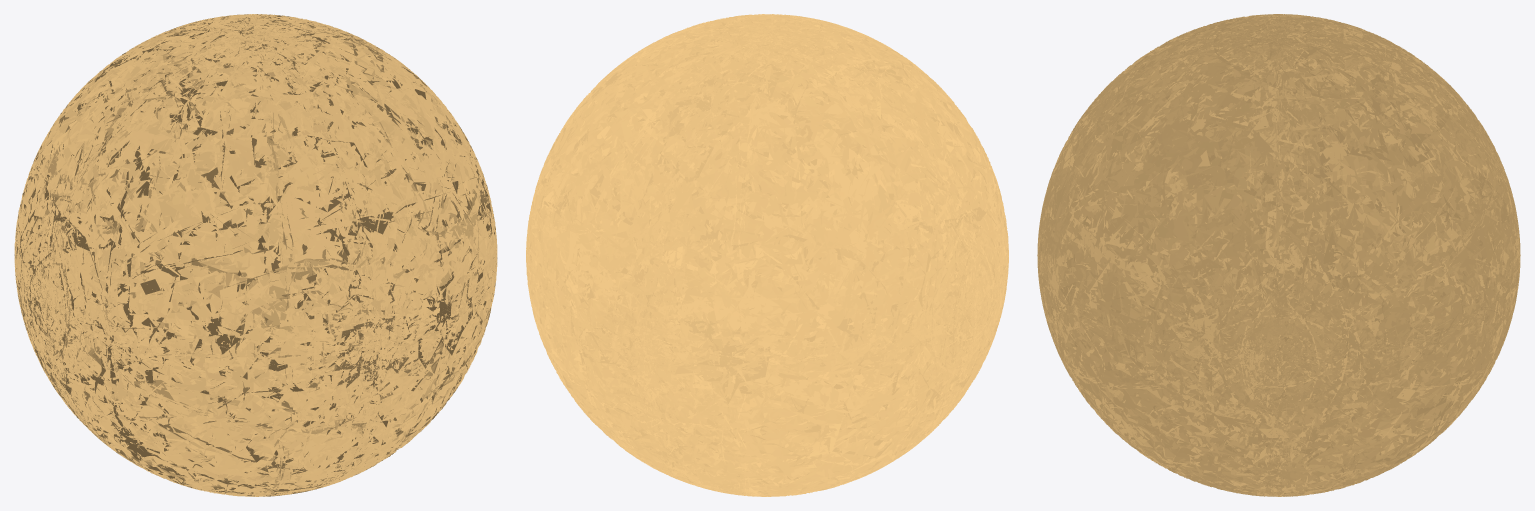
The picture shows the model from 3 angles, left to right: view 1: azimuth 30°, elevation 25°; view 2: azimuth 150°, elevation 25°; view 3: azimuth 270°, elevation 25°; orthographic projection.
Parts seen in each view (by area): view 1: 22C-22C-equipment; view 2: 22C-22C-equipment; view 3: 22C-22C-equipment.
Boxes of the visible parts, x1=… form: 22C-22C-equipment: x1=14, y1=14, x2=497, y2=496; 22C-22C-equipment: x1=526, y1=14, x2=1008, y2=496; 22C-22C-equipment: x1=1037, y1=14, x2=1520, y2=496.
Bounding box in the file's own units: 2 × 2 × 2.
